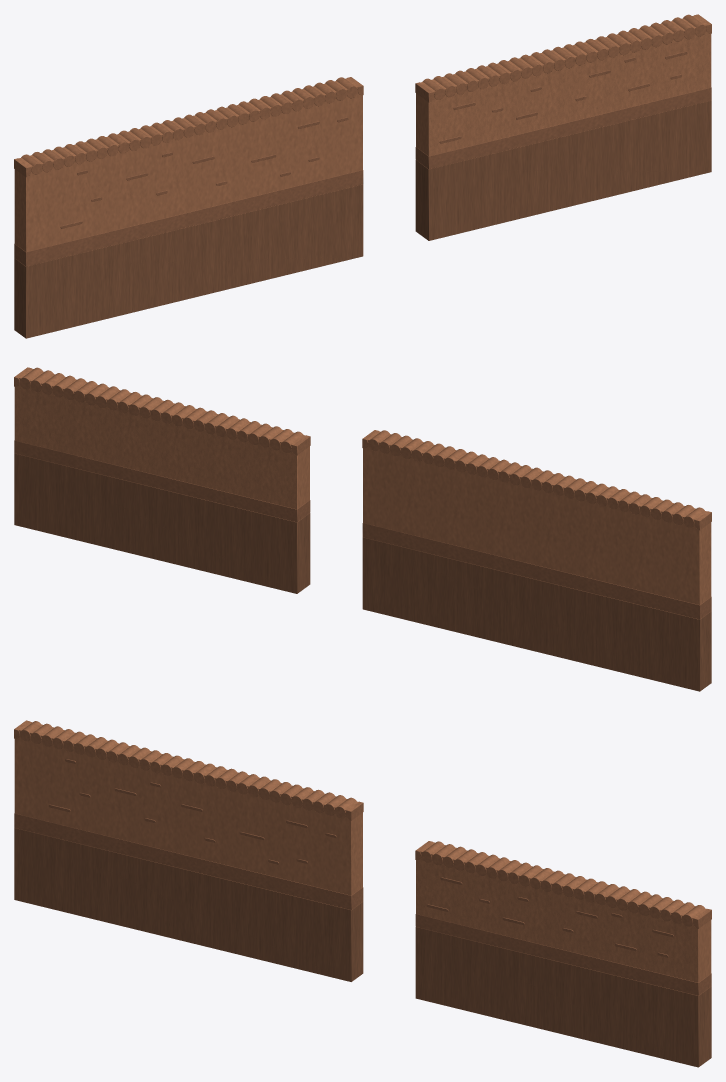
The model's file is grond_level3.glb.
3 renders of one model, top to bottom at view 1: azimuth 30°, elevation 25°; view 2: azimuth 150°, elevation 25°; view 3: azimuth 330°, elevation 25°, orthographic.
Visible parts, largest first — view 1: grond_L3_01, grond_L3_02; view 2: grond_L3_01, grond_L3_02; view 3: grond_L3_01, grond_L3_02.
Boxes of the visible parts, bbox=[...] form: grond_L3_01: bbox=[14, 77, 363, 338]; grond_L3_02: bbox=[415, 14, 711, 240]; grond_L3_01: bbox=[362, 430, 711, 691]; grond_L3_02: bbox=[14, 367, 310, 593]; grond_L3_01: bbox=[14, 720, 363, 981]; grond_L3_02: bbox=[415, 841, 711, 1067].
Bounding box in the file's own units: 37.83 × 9.12 × 1.31.
4 materials, 4 textured.
